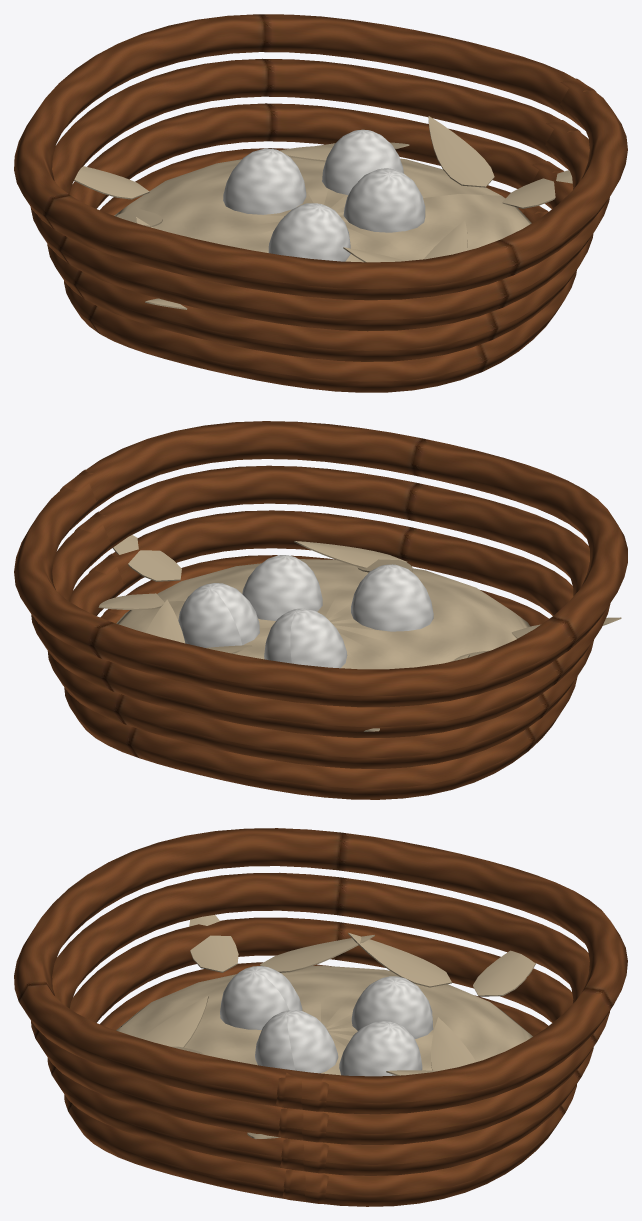
File: birds-and-reptiles-hd-nest-with-eggs-b5e85d16__28124.glb
The picture shows the model from 3 angles, top to bottom: view 1: azimuth 30°, elevation 25°; view 2: azimuth 150°, elevation 25°; view 3: azimuth 270°, elevation 25°; orthographic projection.
Visible parts, largest first — view 1: nest-with-eggs; view 2: nest-with-eggs; view 3: nest-with-eggs.
Boxes of the visible parts, box(x1,y1,x2,y2) form: nest-with-eggs: box(14, 14, 627, 392); nest-with-eggs: box(14, 421, 627, 799); nest-with-eggs: box(14, 828, 627, 1206).
Bounding box in the file's own units: 0.5156 × 0.1486 × 0.5158.
3 materials, 3 textured.
